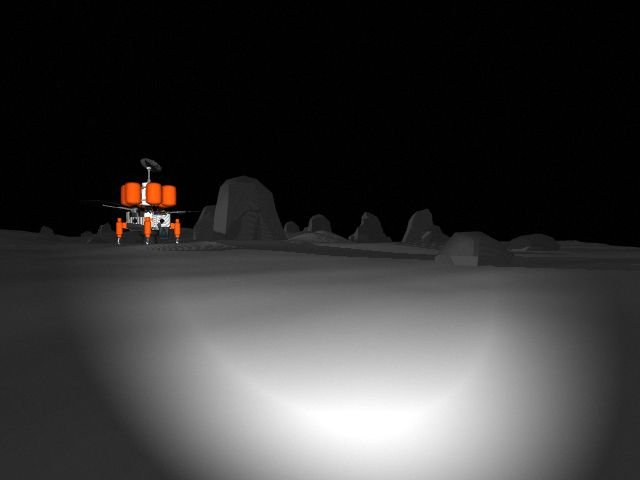homebase: (94, 154, 200, 249)
